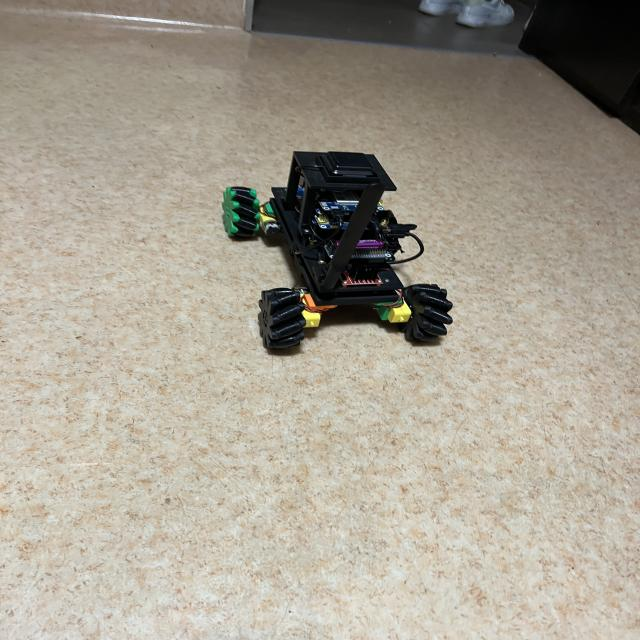robot: (223, 152, 453, 349)
